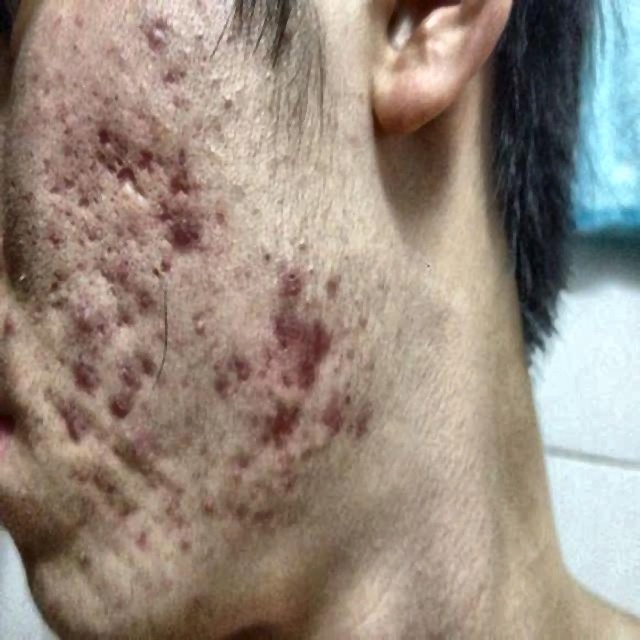papule: (265, 300, 303, 355), (87, 119, 131, 159), (127, 521, 160, 566), (268, 258, 306, 297), (292, 350, 326, 393), (353, 403, 380, 452), (95, 300, 133, 333), (232, 490, 266, 525), (170, 163, 200, 202), (116, 356, 149, 391), (136, 138, 166, 175), (113, 154, 139, 193), (82, 459, 114, 490), (301, 316, 332, 348), (166, 216, 196, 249), (58, 403, 85, 439), (219, 447, 246, 481), (265, 422, 292, 456), (320, 387, 351, 416), (170, 522, 193, 561), (218, 366, 240, 406), (102, 385, 129, 415), (63, 366, 94, 392), (131, 342, 159, 369), (64, 303, 90, 331), (115, 493, 139, 521), (160, 483, 181, 515), (272, 403, 298, 428), (119, 438, 151, 458), (182, 206, 209, 229), (132, 287, 157, 310), (230, 350, 252, 375), (276, 361, 293, 392), (106, 252, 128, 270)
